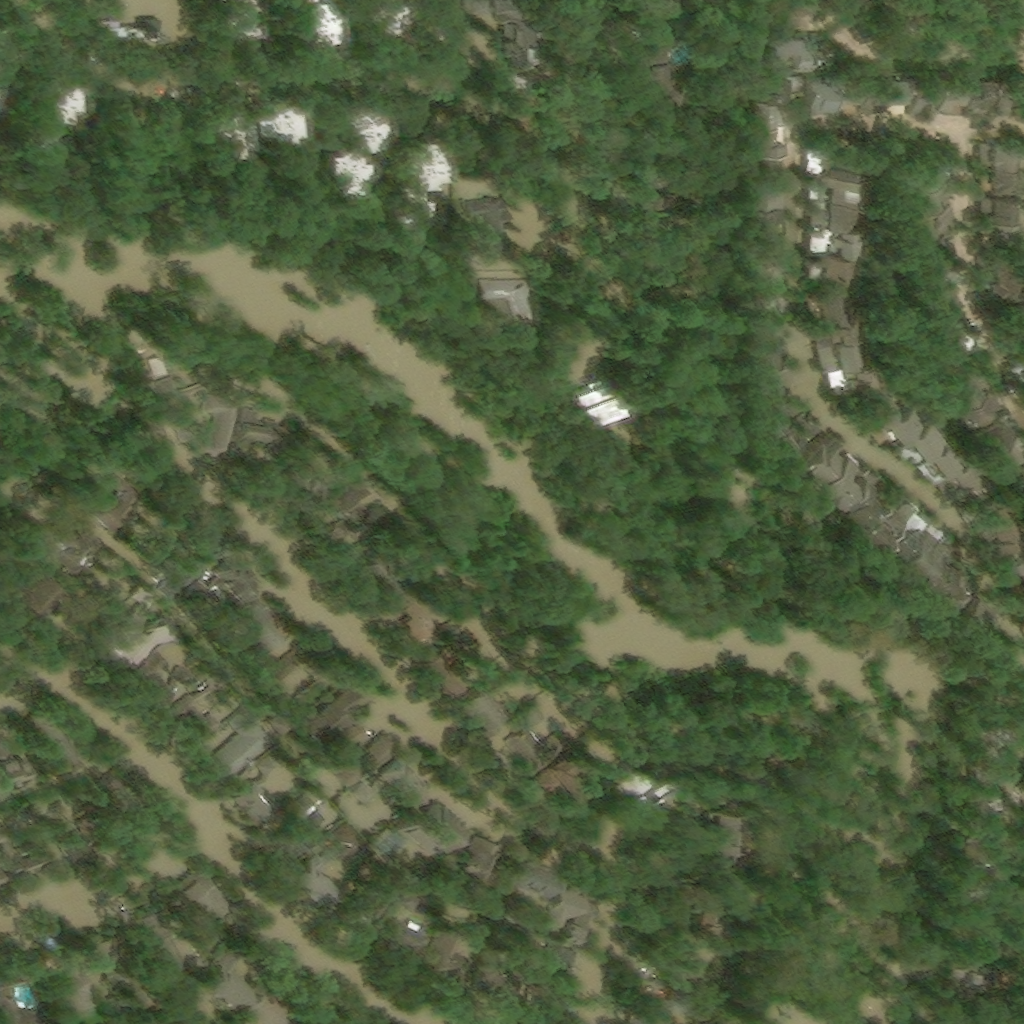destroyed: (174, 383, 239, 463), (204, 937, 255, 1011), (236, 973, 304, 1023), (456, 199, 510, 260), (126, 405, 168, 475), (460, 681, 509, 739), (33, 707, 82, 765), (61, 476, 114, 525), (419, 649, 470, 695), (10, 831, 54, 880), (30, 65, 75, 112), (0, 857, 27, 927), (529, 967, 571, 1007), (627, 990, 668, 1023), (327, 474, 361, 506), (0, 811, 24, 855), (964, 778, 996, 806), (959, 834, 996, 858), (178, 371, 209, 397), (147, 353, 168, 381), (326, 458, 349, 480), (482, 662, 504, 685), (207, 671, 228, 694), (44, 821, 68, 841), (667, 988, 684, 1009), (542, 941, 559, 962)
major_damage: (99, 584, 180, 667), (246, 636, 326, 712), (162, 520, 232, 601), (90, 932, 156, 1015), (205, 708, 272, 786), (891, 149, 954, 230), (297, 818, 366, 891), (326, 721, 400, 788), (331, 866, 400, 936), (609, 761, 677, 832), (812, 287, 858, 388), (741, 71, 786, 173), (845, 389, 921, 448), (903, 231, 959, 311), (390, 796, 467, 854), (880, 502, 944, 568), (373, 585, 439, 648), (233, 779, 295, 843), (23, 515, 95, 567), (230, 597, 290, 656), (49, 952, 99, 1022), (806, 150, 852, 224), (4, 561, 61, 618), (537, 750, 593, 808), (852, 485, 911, 539), (908, 73, 987, 113), (547, 887, 597, 949), (466, 0, 520, 57), (919, 310, 973, 366), (948, 368, 1001, 425), (645, 928, 696, 987), (0, 959, 47, 1023), (431, 921, 492, 970), (305, 681, 362, 733), (169, 691, 220, 747), (806, 225, 861, 276), (139, 653, 195, 702), (238, 405, 288, 459), (788, 425, 837, 480), (572, 370, 622, 423), (209, 558, 261, 608), (458, 832, 498, 896), (174, 866, 222, 917), (809, 447, 858, 496), (634, 24, 671, 88), (978, 411, 1022, 464), (742, 362, 788, 412), (382, 756, 429, 804), (924, 438, 971, 486), (398, 131, 442, 182), (247, 92, 297, 136), (896, 420, 946, 464), (473, 279, 532, 316), (336, 93, 381, 141), (638, 151, 674, 210), (984, 512, 1022, 567), (279, 458, 324, 504), (856, 73, 905, 115), (832, 469, 876, 515), (356, 550, 402, 594), (693, 797, 726, 857), (979, 138, 1015, 190), (803, 73, 855, 109), (0, 727, 31, 787), (387, 179, 429, 223), (511, 856, 556, 896), (954, 460, 995, 503), (762, 33, 807, 72), (294, 0, 335, 41), (313, 517, 354, 558), (981, 257, 1021, 299), (324, 140, 365, 180), (766, 415, 806, 456), (271, 820, 307, 865), (150, 920, 185, 962), (205, 106, 244, 143), (218, 0, 257, 36), (743, 304, 783, 338), (762, 0, 809, 28), (970, 494, 1002, 535), (742, 174, 782, 206), (744, 251, 780, 286), (745, 202, 785, 232), (674, 874, 707, 910), (918, 552, 955, 583), (365, 0, 404, 29), (744, 228, 784, 256), (980, 192, 1017, 220), (103, 19, 144, 44), (743, 336, 778, 365), (744, 280, 785, 303), (352, 775, 383, 805), (987, 76, 1009, 118), (258, 752, 286, 780), (293, 790, 318, 819), (1001, 327, 1022, 359), (398, 889, 420, 911), (141, 15, 160, 39), (1008, 359, 1022, 391), (630, 0, 666, 11), (1004, 939, 1022, 961), (1012, 460, 1022, 492), (519, 75, 534, 90), (406, 919, 421, 932), (500, 260, 516, 270)
unclassified: (961, 723, 1007, 776), (946, 881, 995, 915), (15, 114, 45, 144), (0, 17, 14, 66), (966, 858, 988, 880), (966, 807, 983, 832)
